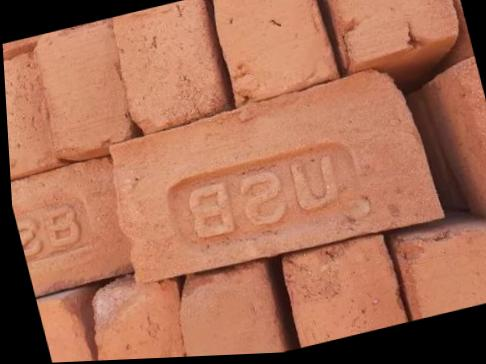brick: (97, 58, 449, 297), (10, 157, 137, 298), (32, 18, 139, 162), (110, 0, 228, 130), (277, 234, 409, 348), (209, 0, 340, 104), (168, 263, 287, 357), (82, 274, 194, 361), (322, 0, 462, 68), (397, 218, 486, 320), (3, 52, 59, 176), (453, 57, 486, 225), (38, 293, 101, 363)
